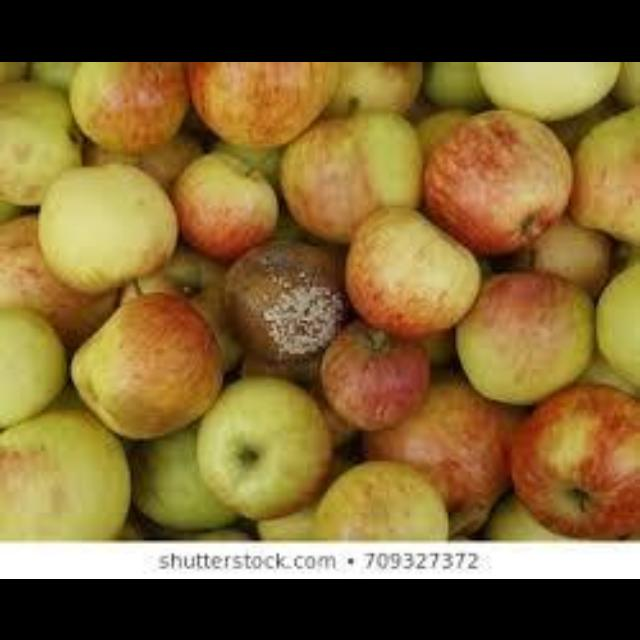apple: (366, 373, 522, 529), (72, 291, 220, 437), (422, 110, 571, 253), (509, 384, 637, 537), (197, 376, 330, 517), (279, 112, 420, 240), (38, 163, 177, 291), (456, 271, 591, 401), (346, 207, 479, 335), (0, 407, 128, 537), (223, 240, 346, 358), (187, 61, 335, 145), (320, 320, 428, 427), (172, 151, 276, 258), (69, 61, 187, 151), (312, 460, 448, 537), (476, 61, 620, 117), (0, 307, 64, 425)
rotten: (223, 240, 346, 361)
